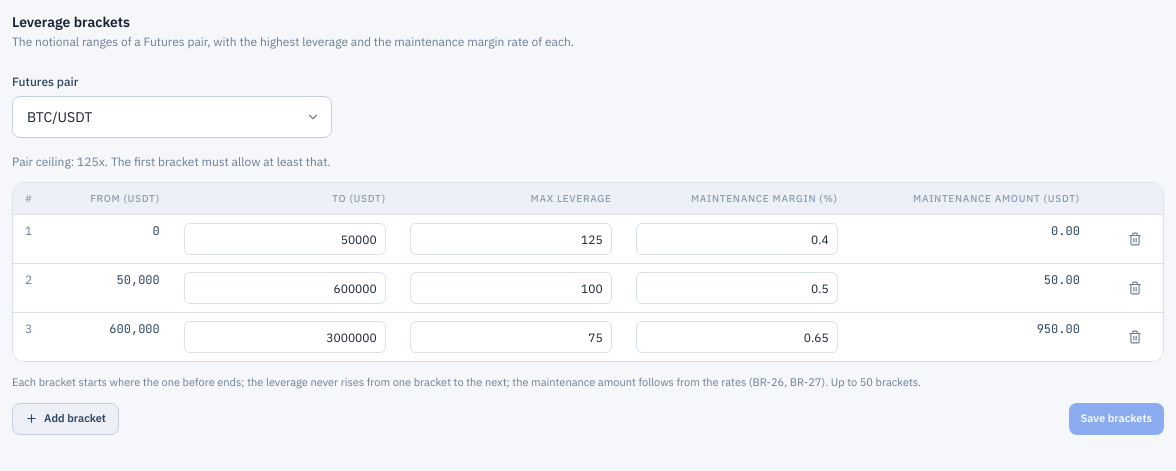
Test: SCR-38 leverage brackets (UC-46) › names the first bracket when it is below the pair ceiling (BR-26)
The image size is (1176, 471).
Replace the text in the field named "Max leverage of bracket 1" with "110" at (511, 239), box [410,223,612,255]
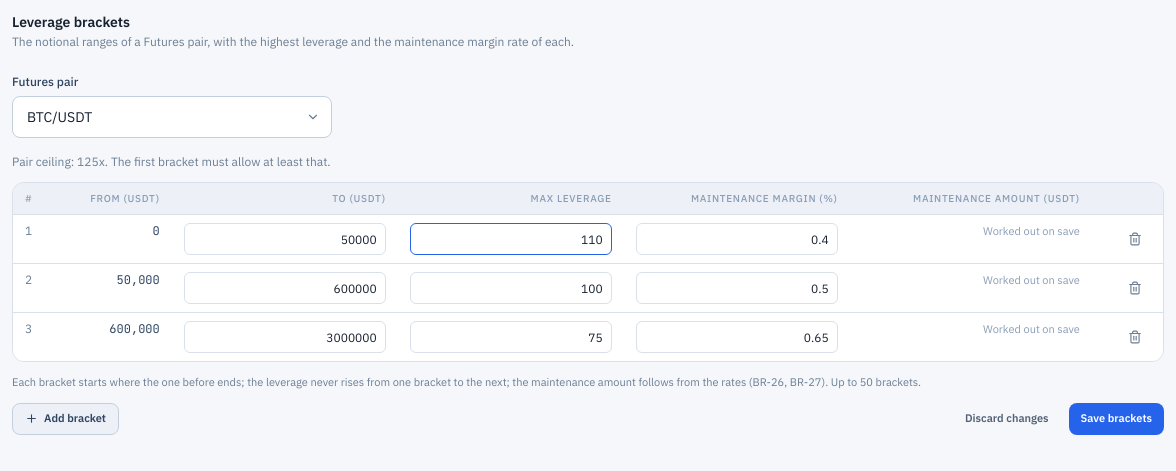
Click the button "Save brackets".
click(1116, 418)  # box [1069,402,1164,434]
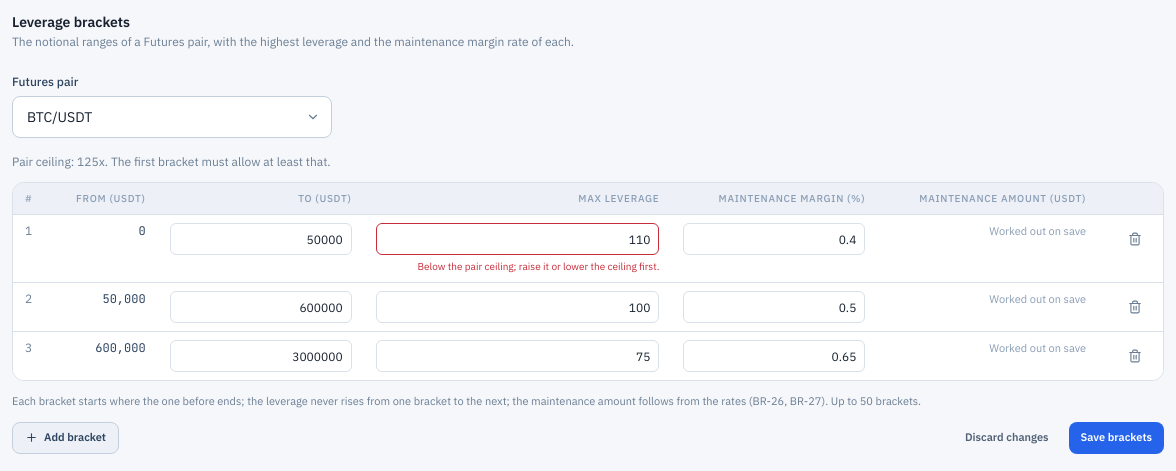
Now the text "Below the pair ceiling; raise it or lower the ceiling first." is shown, box [376,259,659,274]
